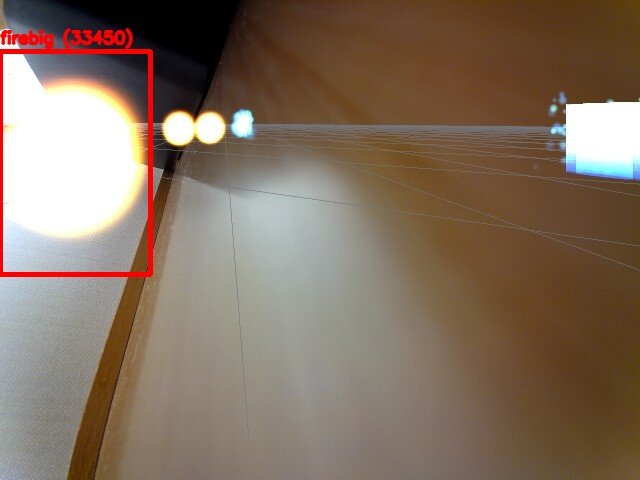firebig: (0, 51, 150, 274)
